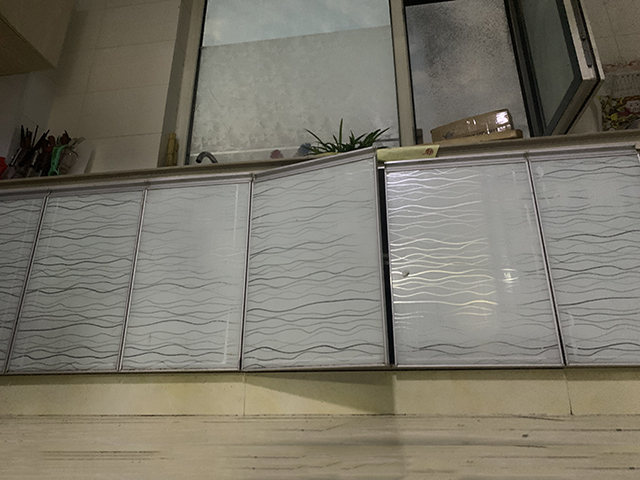cabinet: (1, 127, 640, 417)
